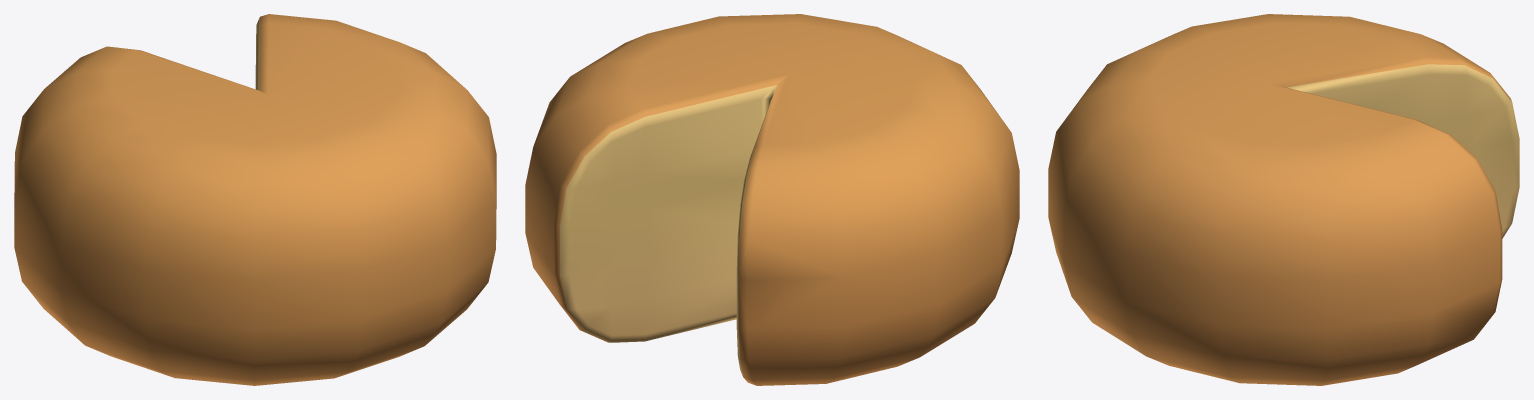
The model's file is Cheese.fbx.
3 renders of one model, left to right at view 1: azimuth 30°, elevation 25°; view 2: azimuth 150°, elevation 25°; view 3: azimuth 270°, elevation 25°, orthographic.
Parts seen in each view (by area): view 1: Cylinder.012; view 2: Cylinder.012; view 3: Cylinder.012.
Boxes of the visible parts, x1,y1,x2,y2 form: Cylinder.012: (14,14,496,385); Cylinder.012: (525,14,1019,385); Cylinder.012: (1048,14,1519,385).
Size of the model in its own units: 3.83 by 2 by 3.69.
